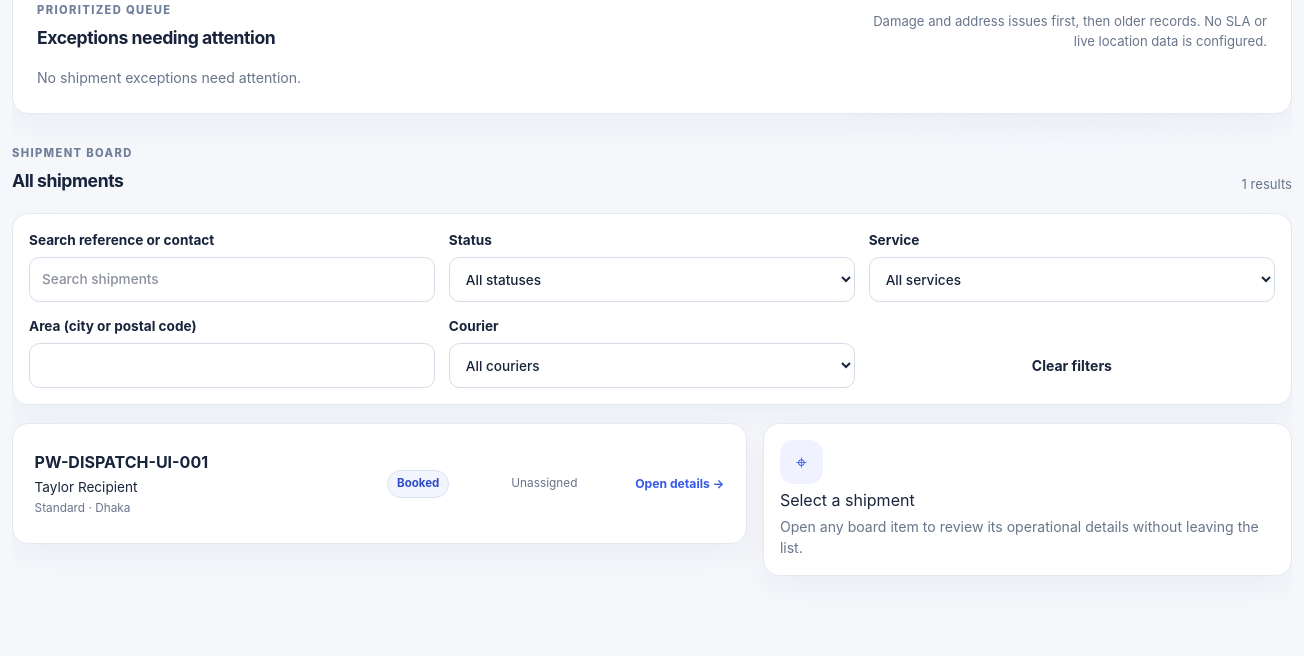
Test: dispatcher operations workspace › keeps the shipment board visible while reviewing and confirming assignment
(page scrolled)
Click the button "PW-DISPATCH-UI-001" at (121, 462), box [24,436,735,532]
(page scrolled)
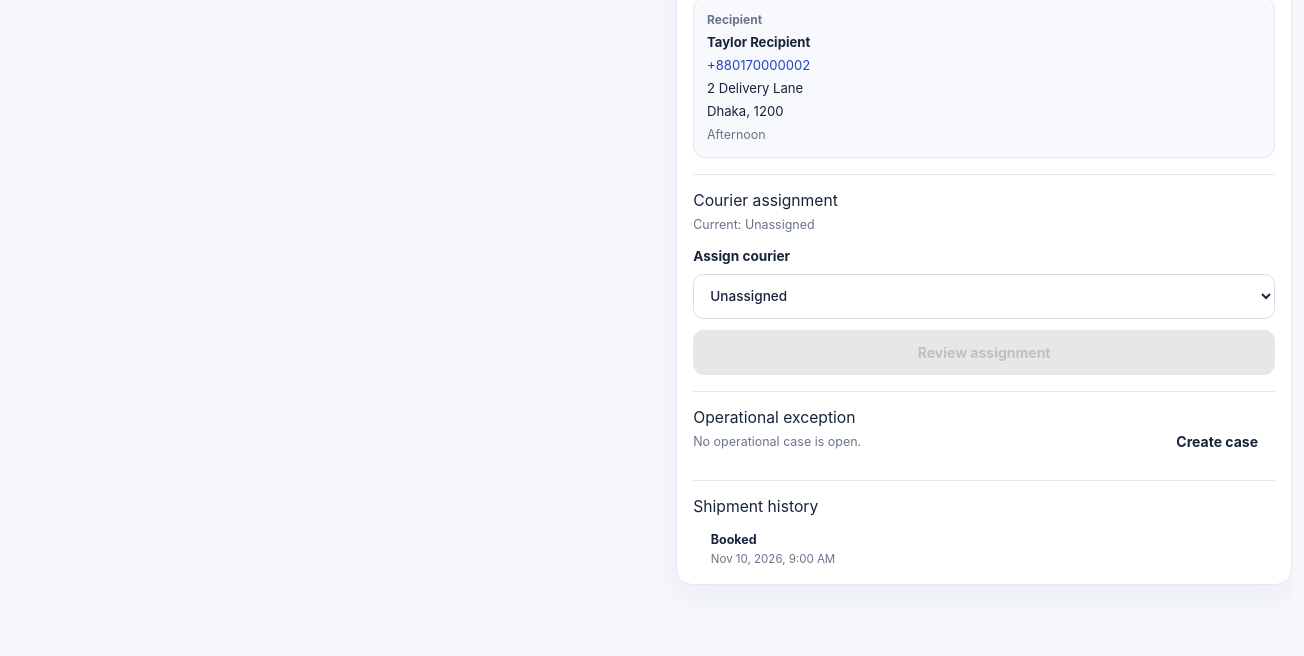
Now the heading "Courier assignment" is shown, box [693,189,838,213]
Select "Courier One" in the dropdown labelled "Assign courier" at (984, 296), box [693,274,1275,319]
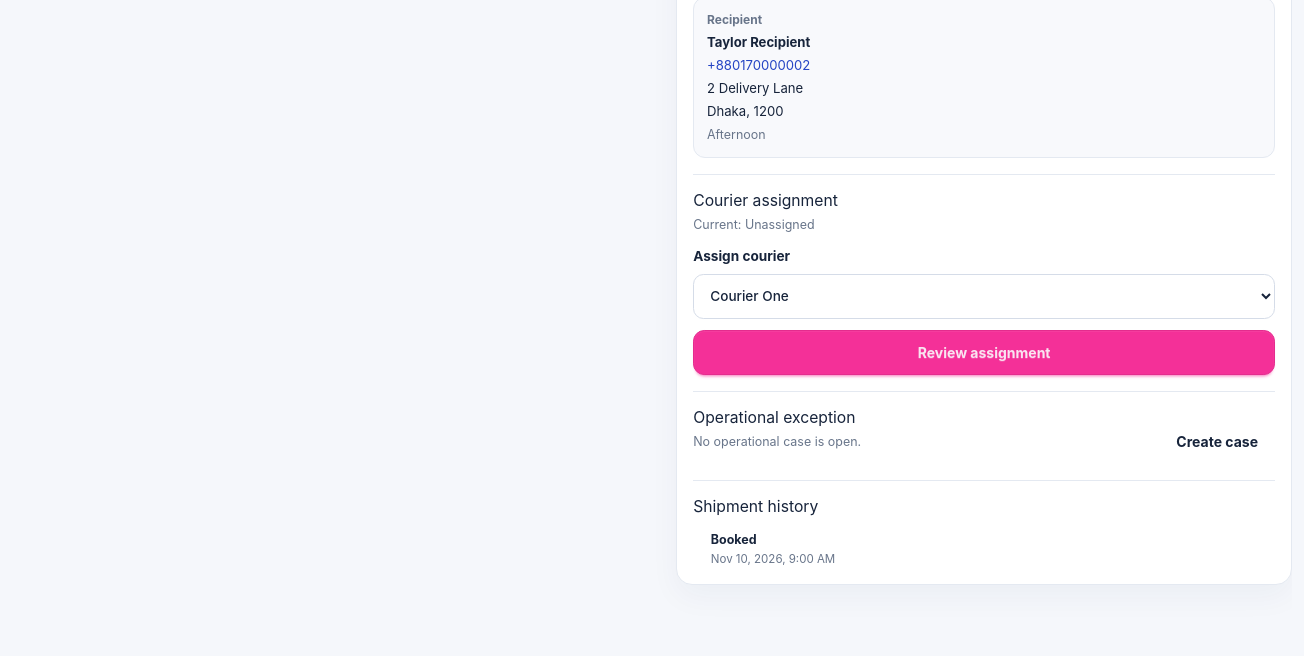
Click the button "Review assignment" at (984, 352), box [693,330,1275,375]
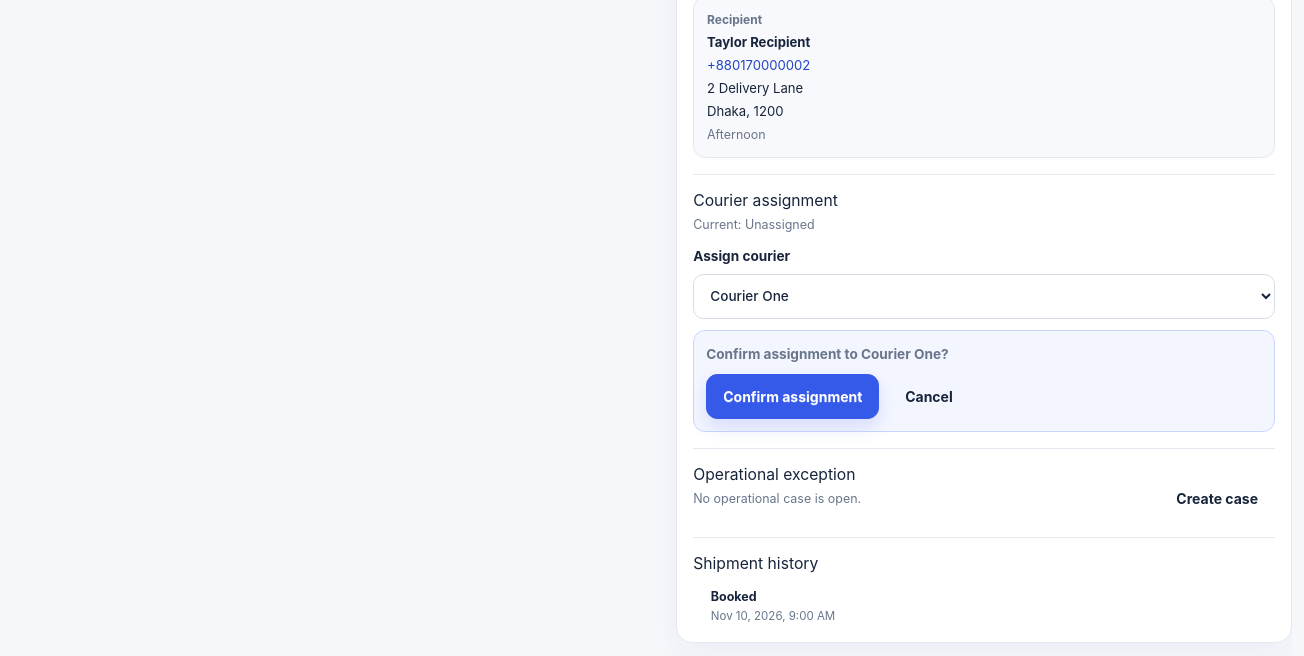
Now the element named "Confirm courier assignment" is shown, box [693,330,1275,432]
Click the button "Confirm assignment" at (793, 396), box [706,374,879,419]
(page scrolled)
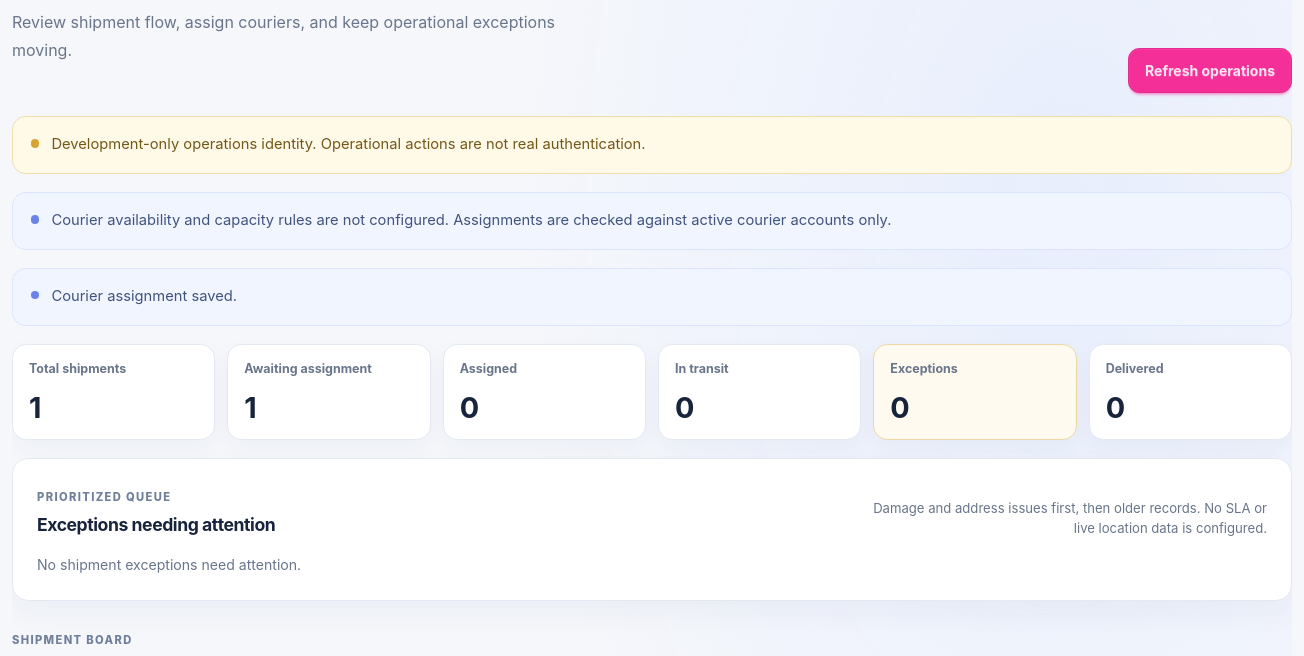
Now the text "Courier assignment saved." is shown, box [51,285,237,309]
